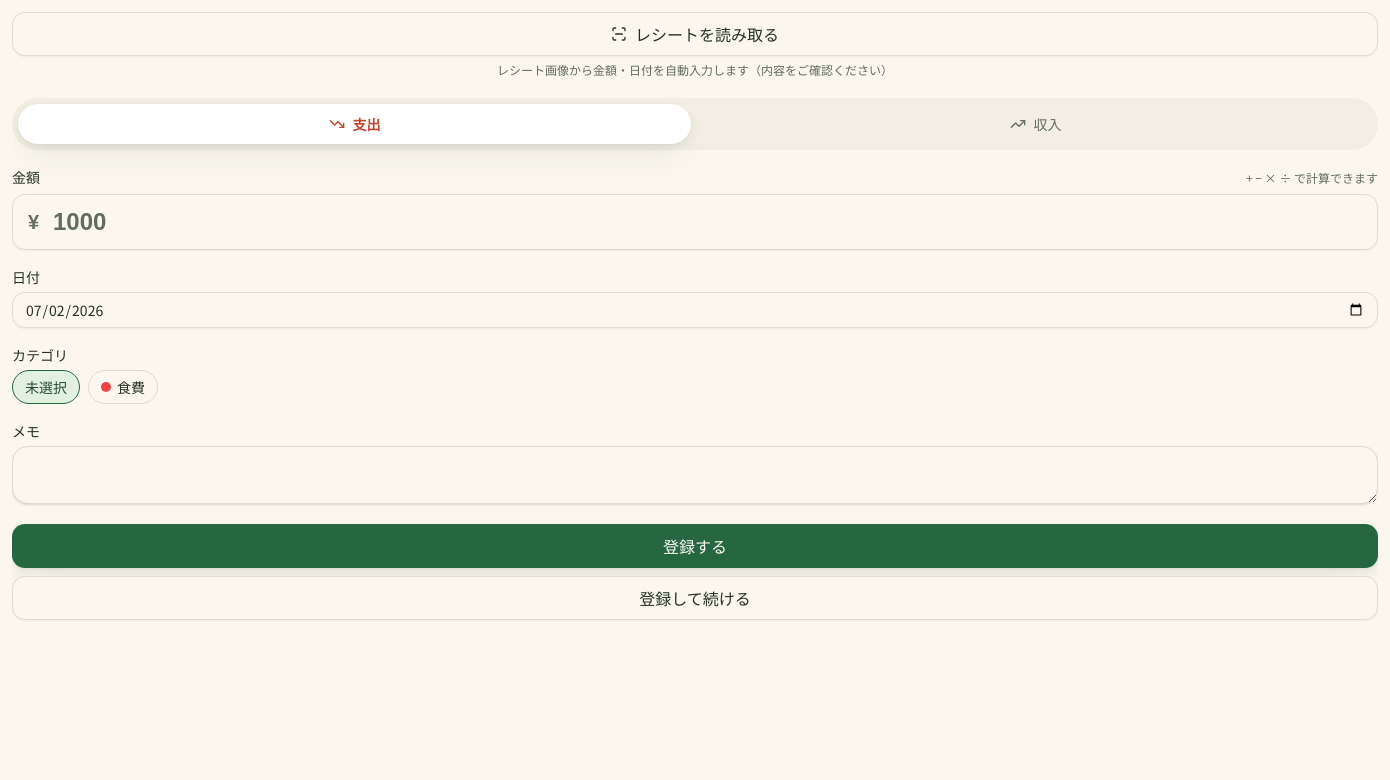
TransactionForm › 「登録して続ける」成功後は金額・メモ・カテゴリをクリアし日付は維持する
Step 1. Type "1500" into the field labelled "金額" → [695, 222], box [12, 194, 1378, 250]
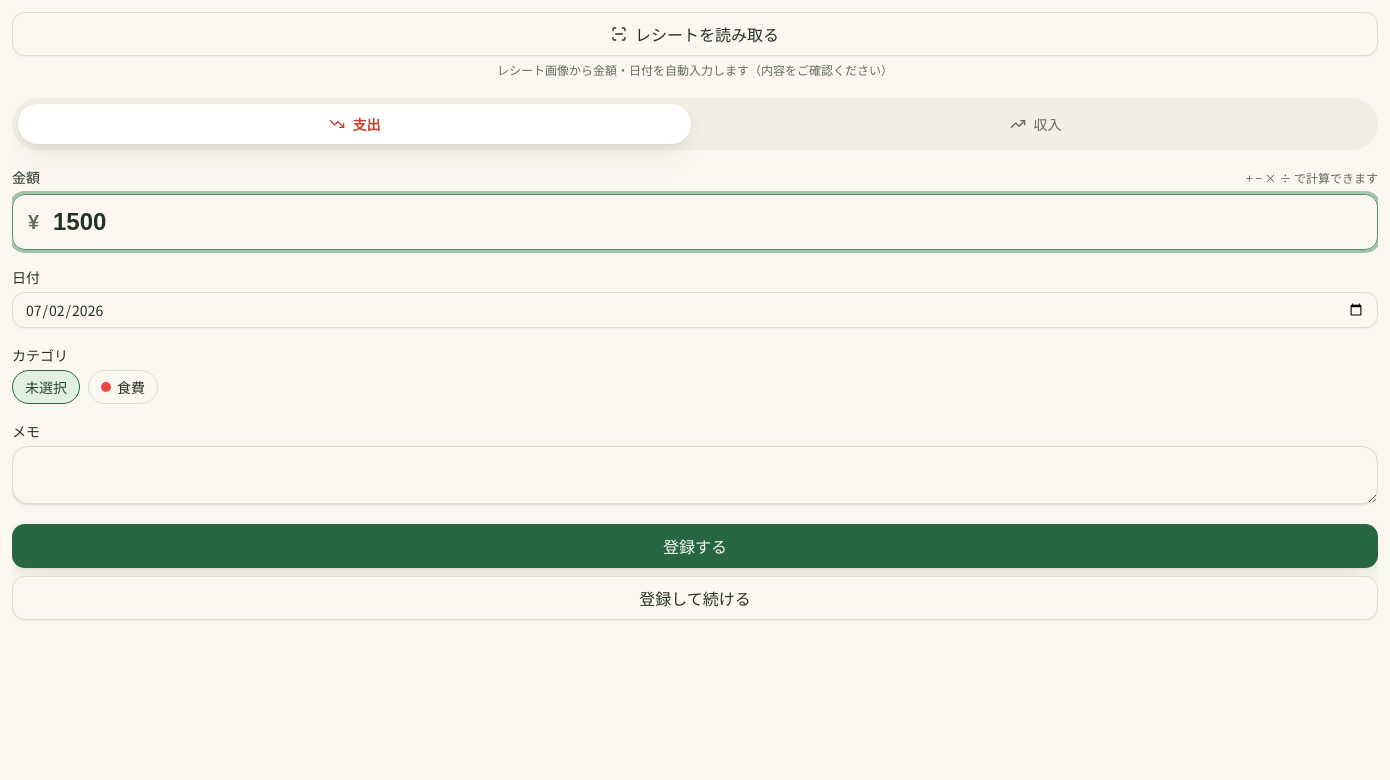
Step 2. Type "ランチ" into the text box labelled "メモ" → [695, 475], box [12, 446, 1378, 504]
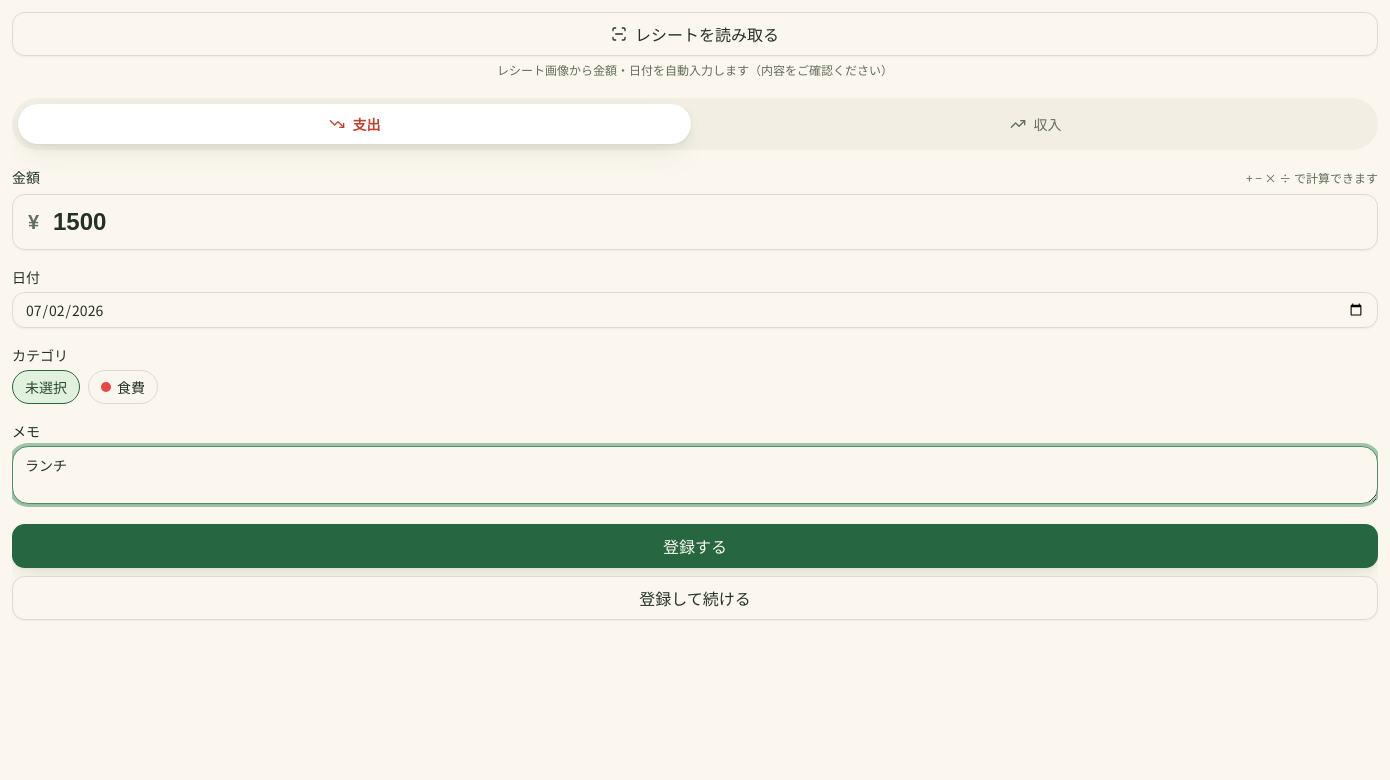
Step 3. Click the radio button labelled "食費" → [123, 387], box [88, 370, 158, 404]
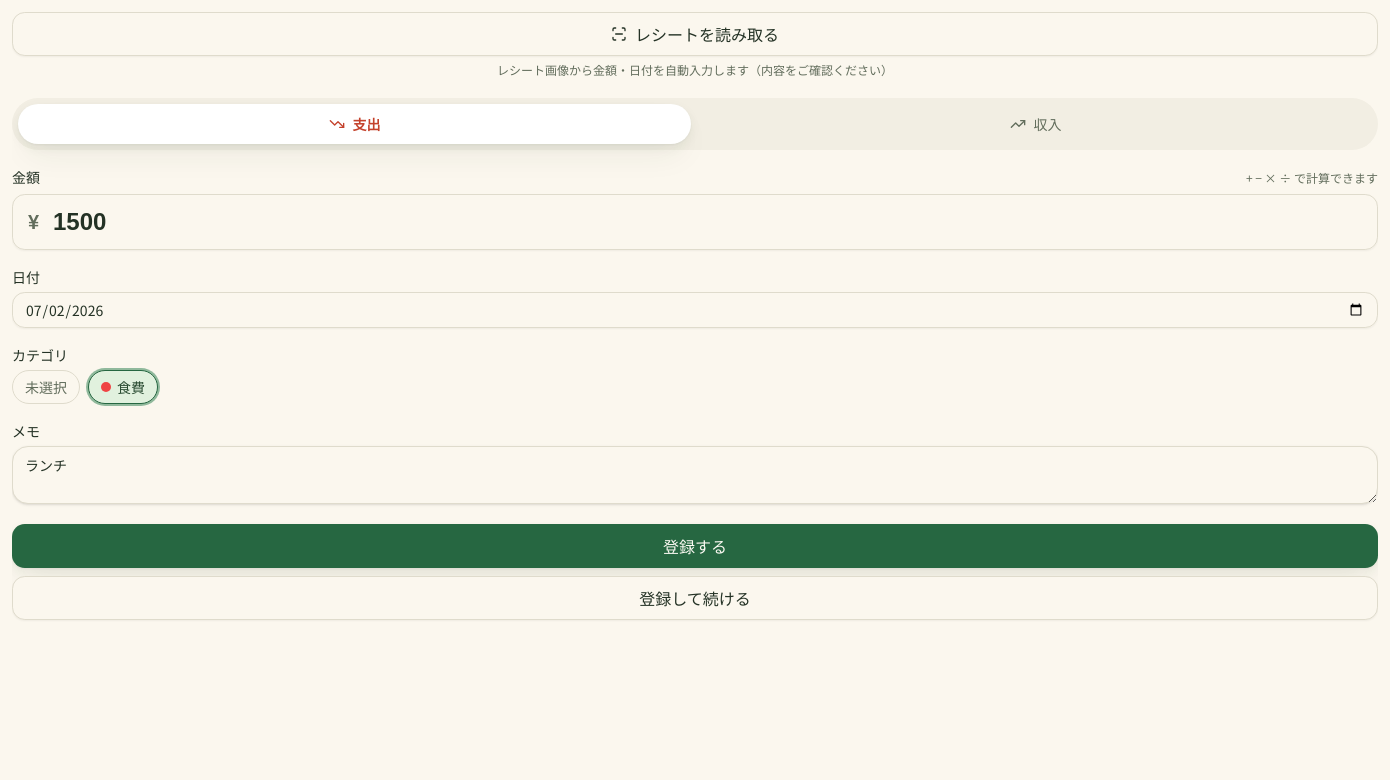
Step 4. Click the button "登録して続ける" → [695, 598], box [12, 576, 1378, 620]
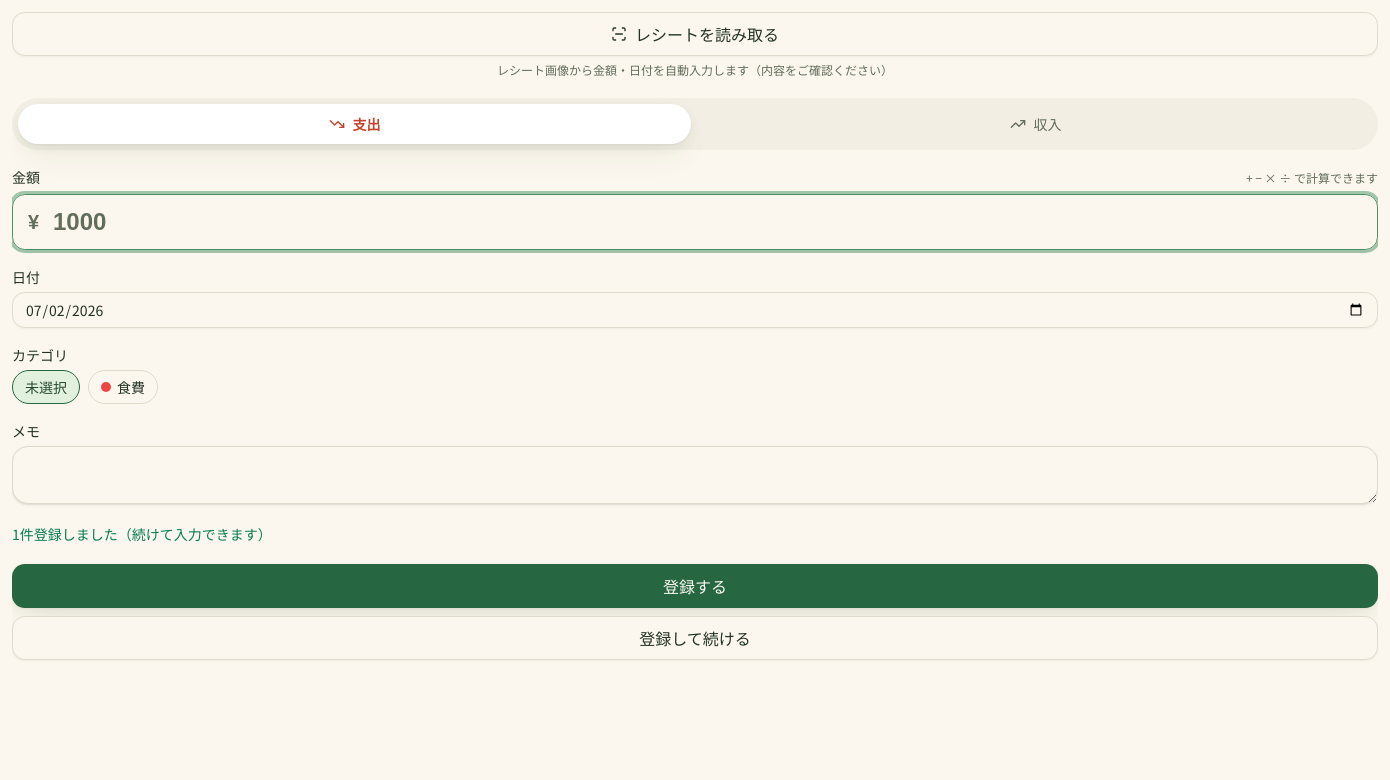
Expected: the field labelled "金額" is empty, [12, 194, 1378, 250]
Expected: the text box labelled "メモ" is empty, [12, 446, 1378, 504]
Expected: the radio button labelled "未選択" is checked, [12, 370, 80, 404]
